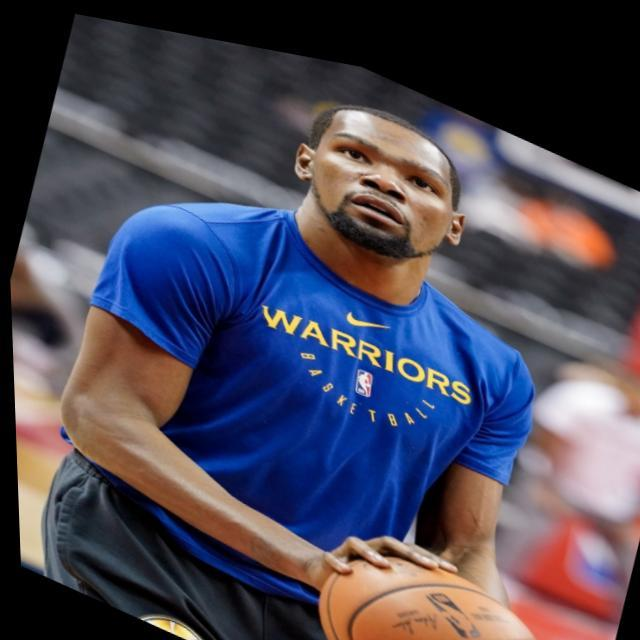Nonhelmet: (267, 79, 475, 285)
